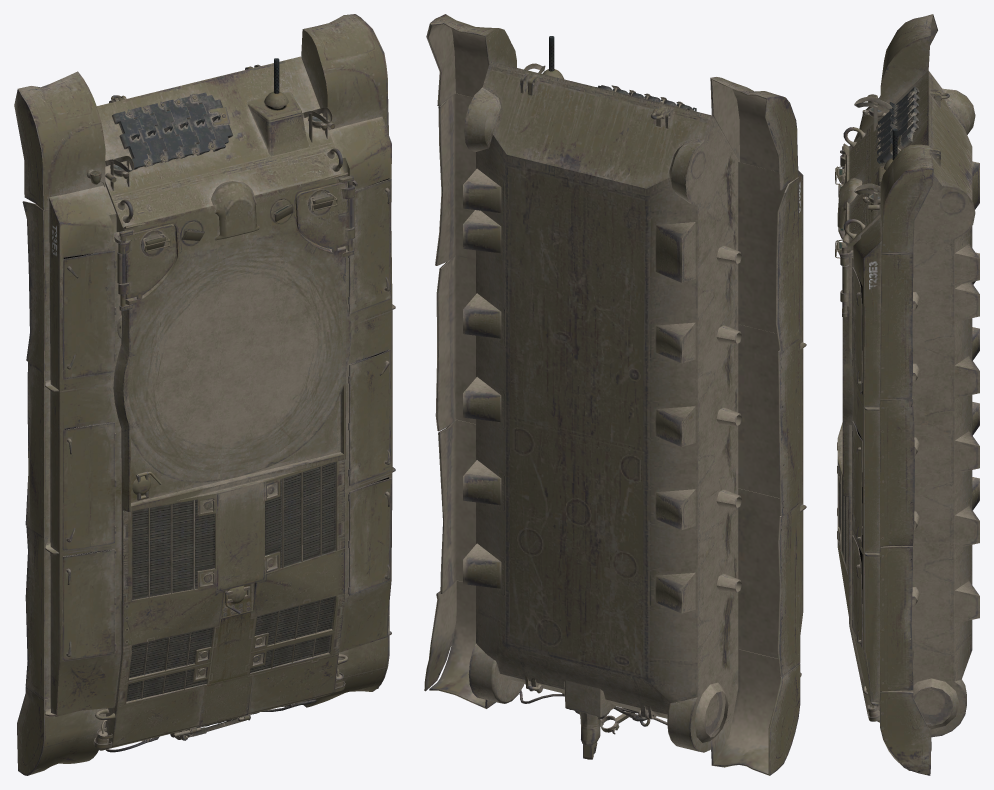
Rendered from Hull.glb.
3 views of the same model, side by side, from view 1: azimuth 30°, elevation 25°; view 2: azimuth 150°, elevation 25°; view 3: azimuth 270°, elevation 25° (orthographic). The views are drawn at different scales.
Visible parts, largest first — view 1: set_0_group_0; view 2: set_0_group_0; view 3: set_0_group_0.
Boxes of the visible parts, <box> form: set_0_group_0: <box>14,14,395,775</box>; set_0_group_0: <box>424,14,806,775</box>; set_0_group_0: <box>835,14,979,775</box>.
Size of the model in its own units: 3.32 by 6.33 by 1.32.
1 material, 1 textured.
